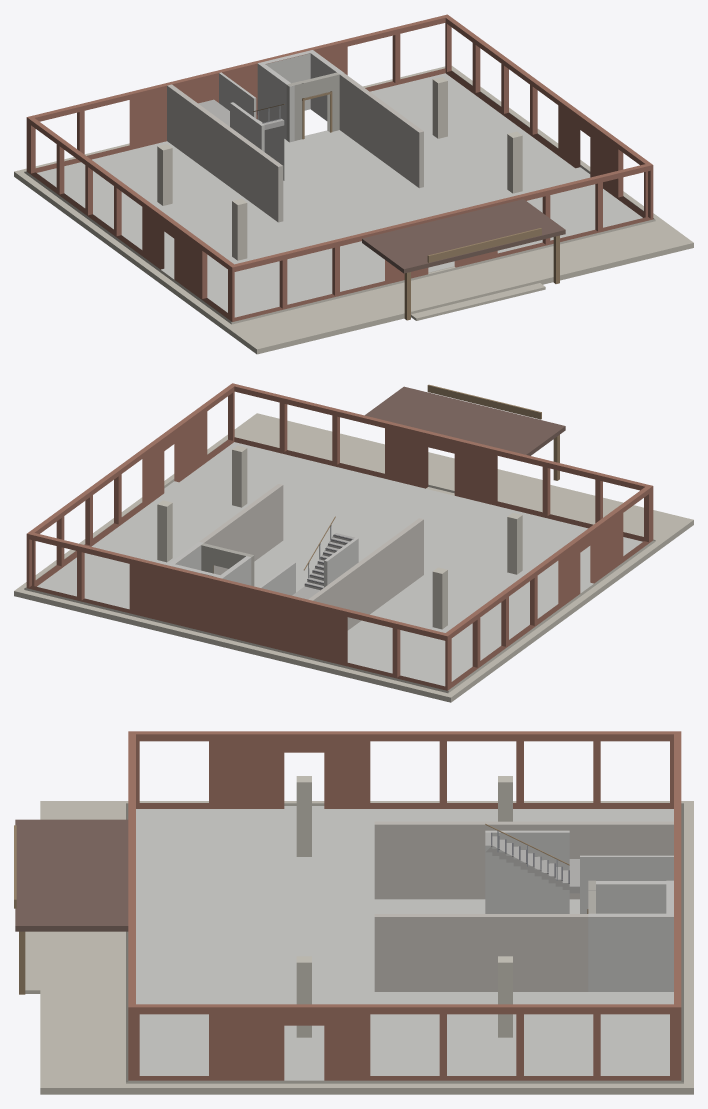
File: brick-lobby.shaft-v1.lod0.glb
3 views of the same model, one above another, from view 1: azimuth 30°, elevation 25°; view 2: azimuth 150°, elevation 25°; view 3: azimuth 270°, elevation 25° (orthographic). The views are drawn at different scales.
Parts seen in each view (by area): view 1: brick-lobby; view 2: brick-lobby; view 3: brick-lobby.
Boxes of the visible parts, left/top/right/bottom form: brick-lobby: left=14, top=14, right=693, bottom=354; brick-lobby: left=14, top=383, right=693, bottom=702; brick-lobby: left=14, top=731, right=693, bottom=1094.
Size of the model in its own units: 27 by 4.89 by 27.05.
